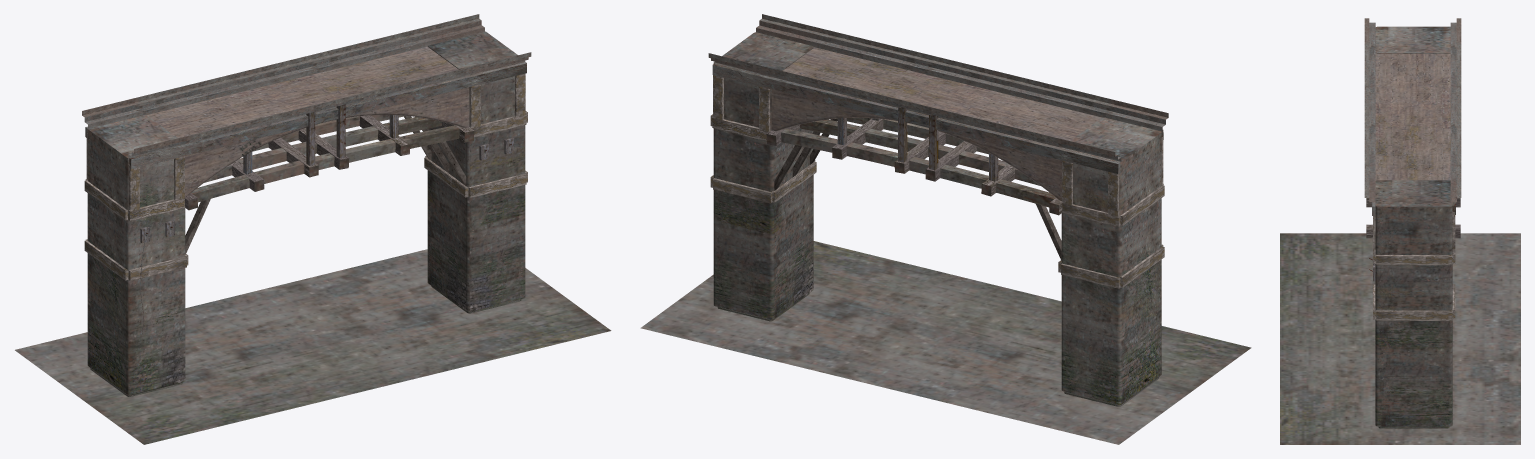
Rendered from Bridge.obj.
3 renders of one model, left to right at view 1: azimuth 30°, elevation 25°; view 2: azimuth 150°, elevation 25°; view 3: azimuth 270°, elevation 25°, orthographic. The views are drawn at different scales.
Parts seen in each view (by area): view 1: Object001; view 2: Object001; view 3: Object001.
Boxes of the visible parts, x1,y1,x2,y2 form: Object001: (15,14,611,444); Object001: (640,14,1251,444); Object001: (1280,18,1520,444).
Bounding box in the file's own units: 148 × 77.04 × 71.04.
Materials: 1 (1 with a texture image).
